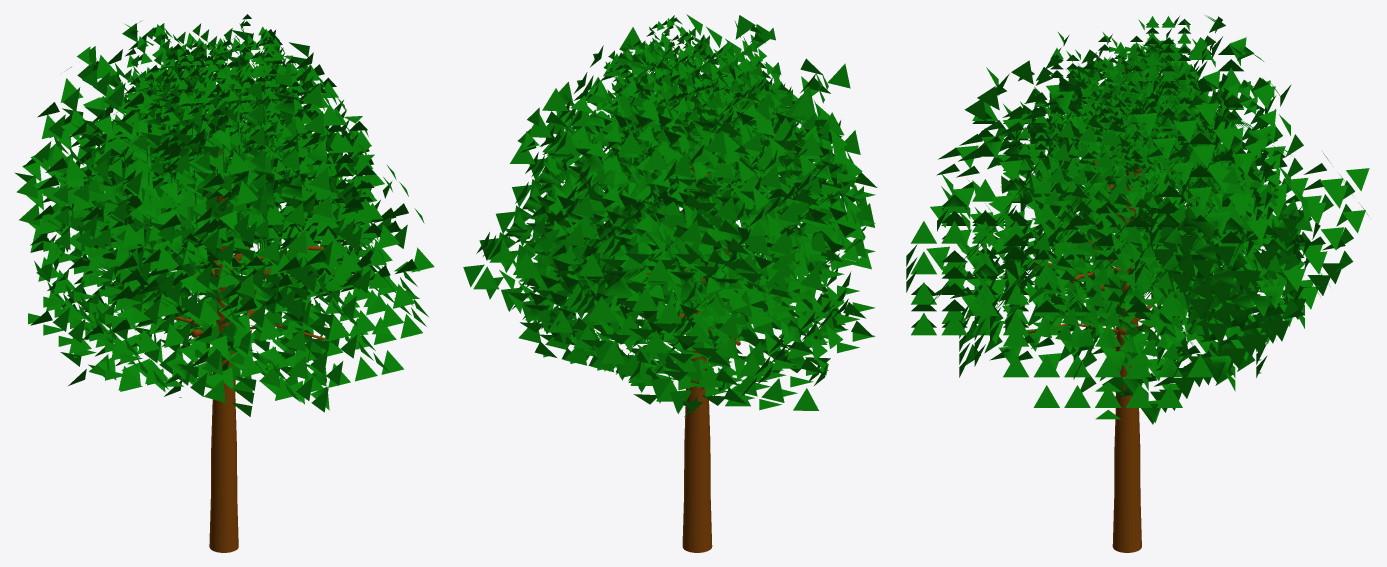
The model's file is tree.dae.
3 renders of one model, left to right at view 1: azimuth 30°, elevation 25°; view 2: azimuth 150°, elevation 25°; view 3: azimuth 270°, elevation 25°, orthographic.
Parts seen in each view (by area): view 1: Color_F12, Color_E16; view 2: Color_F12, Color_E16; view 3: Color_F12, Color_E16.
Boxes of the visible parts, box(x1,y1,x2,y2) form: Color_F12: box(14, 14, 434, 416); Color_E16: box(131, 150, 324, 552); Color_F12: box(463, 14, 877, 417); Color_E16: box(646, 151, 740, 552); Color_F12: box(906, 15, 1369, 424); Color_E16: box(1027, 154, 1183, 552).
Bounding box in the file's own units: 331 × 382 × 463.
2 materials, 2 textured.
